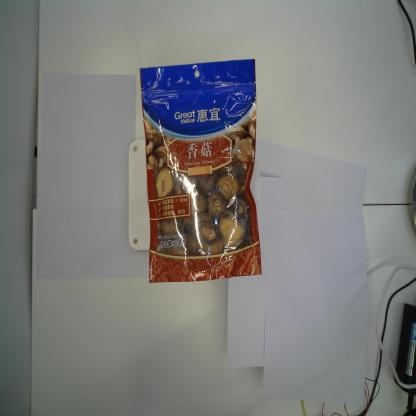Dried Food: (140, 58, 262, 284)
